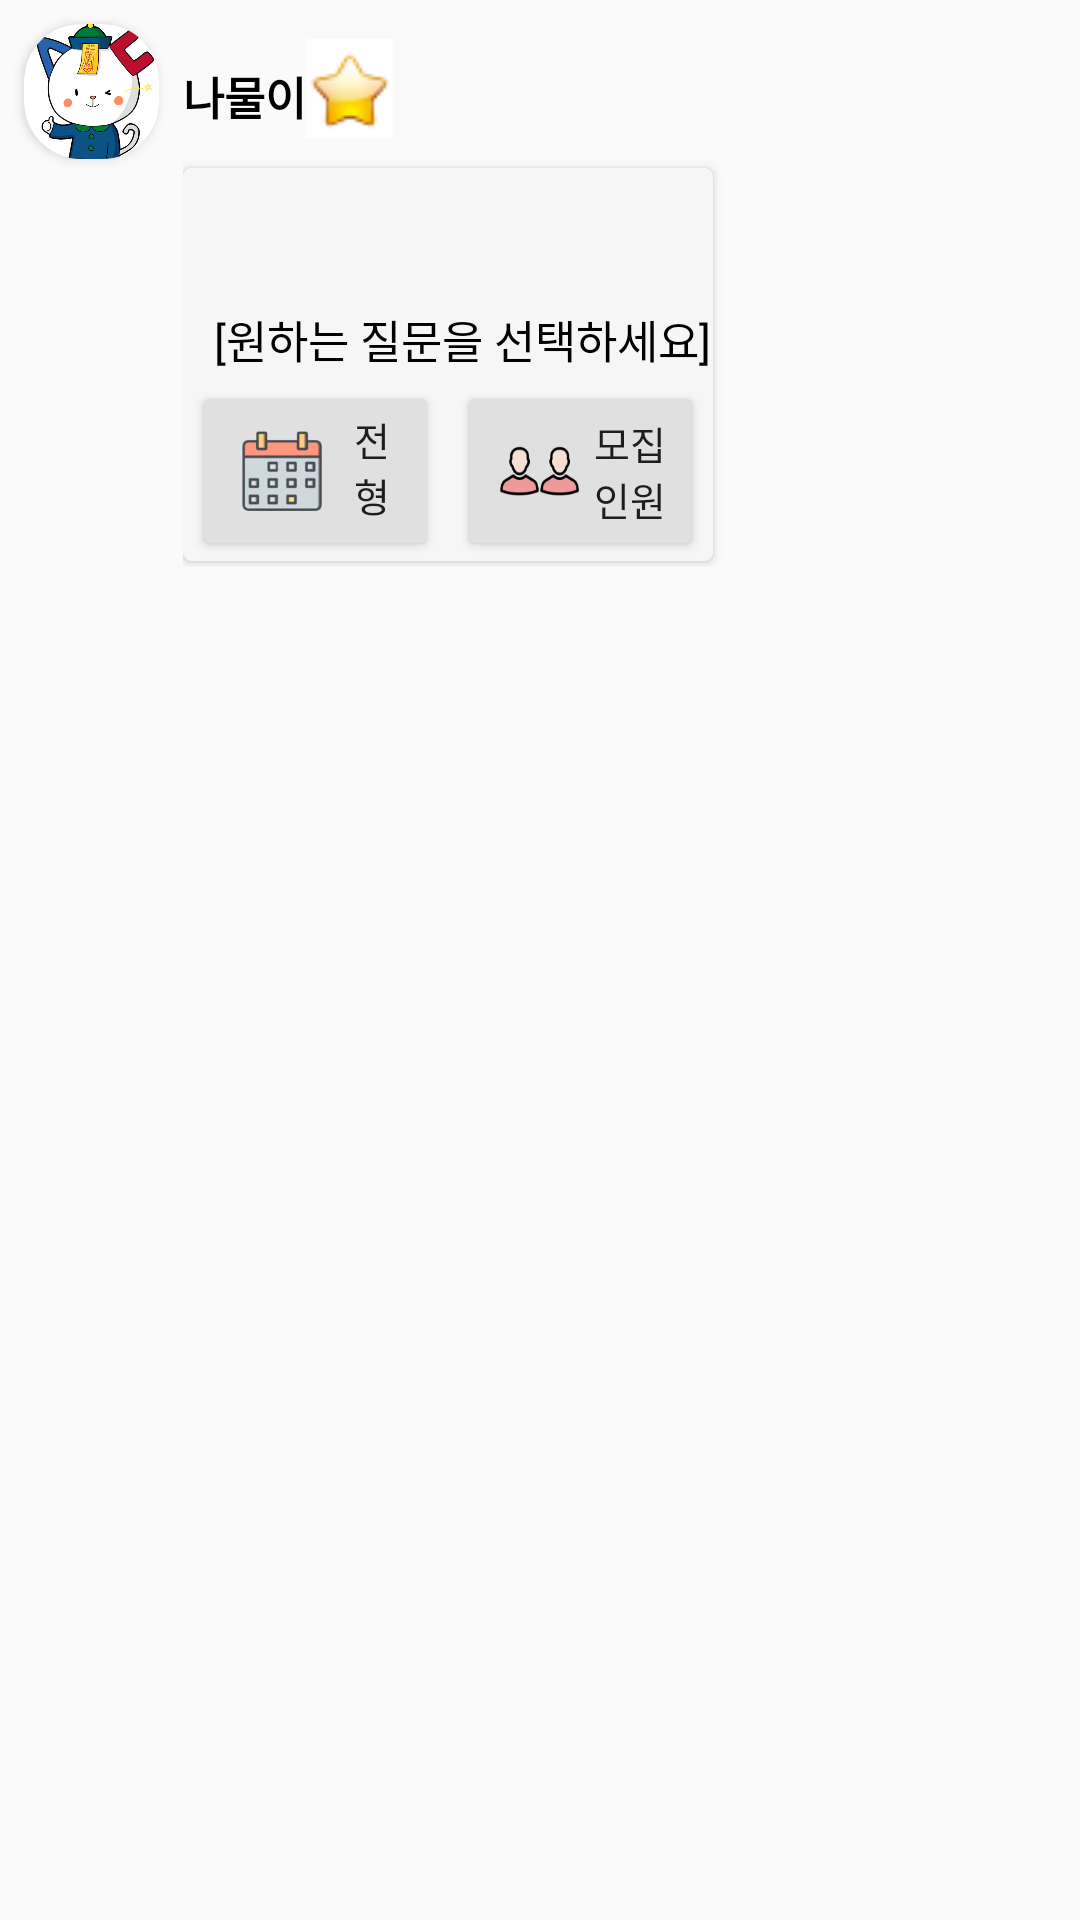

Icon bounding boxes for this 1080px x 1920px phone screenshot, format bbox=(x1, y1, x2, y2):
staron: bbox=(311, 54, 389, 127)
